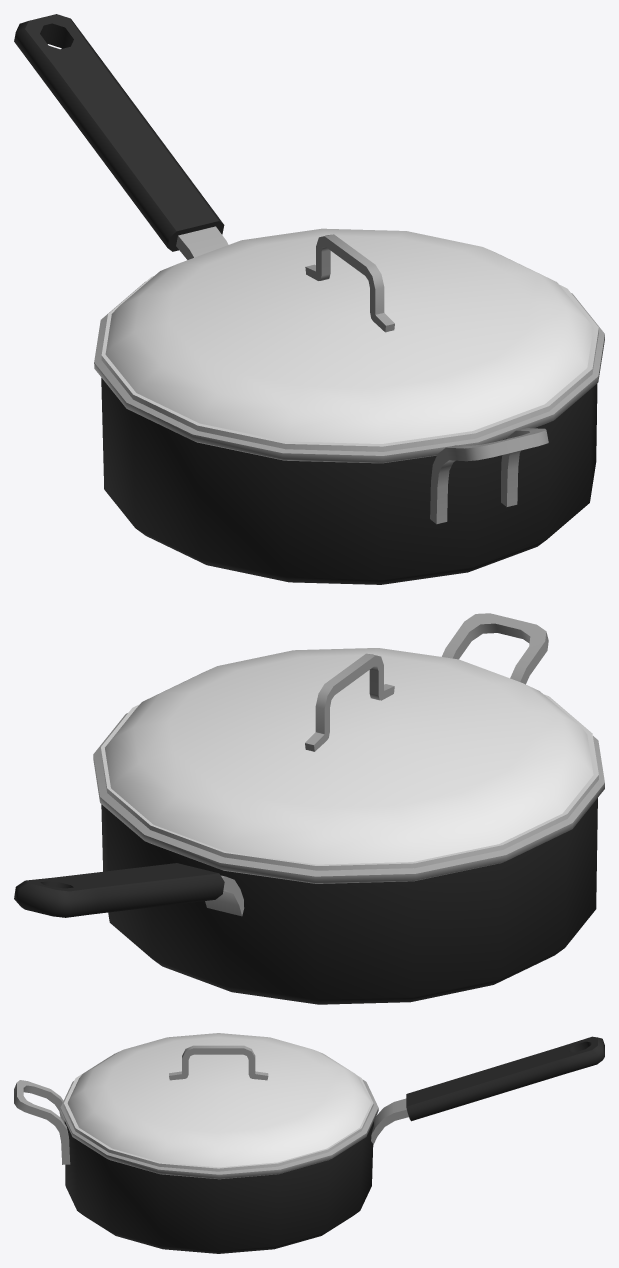
The model's file is SautePan_01.fbx.
3 renders of one model, top to bottom at view 1: azimuth 30°, elevation 25°; view 2: azimuth 150°, elevation 25°; view 3: azimuth 270°, elevation 25°, orthographic. The views are drawn at different scales.
Parts seen in each view (by area): view 1: SautePan_01_Lid, SautePan_01; view 2: SautePan_01_Lid, SautePan_01; view 3: SautePan_01, SautePan_01_Lid.
Part boxes in pixels (left/top/right/bottom): SautePan_01_Lid: left=101, top=228, right=598, bottom=451; SautePan_01: left=14, top=14, right=604, bottom=584; SautePan_01_Lid: left=100, top=648, right=598, bottom=870; SautePan_01: left=14, top=613, right=604, bottom=1004; SautePan_01: left=14, top=1036, right=604, bottom=1253; SautePan_01_Lid: left=63, top=1033, right=373, bottom=1171.
Bounding box in the file's own units: 0.3732 × 0.203 × 0.6934.
